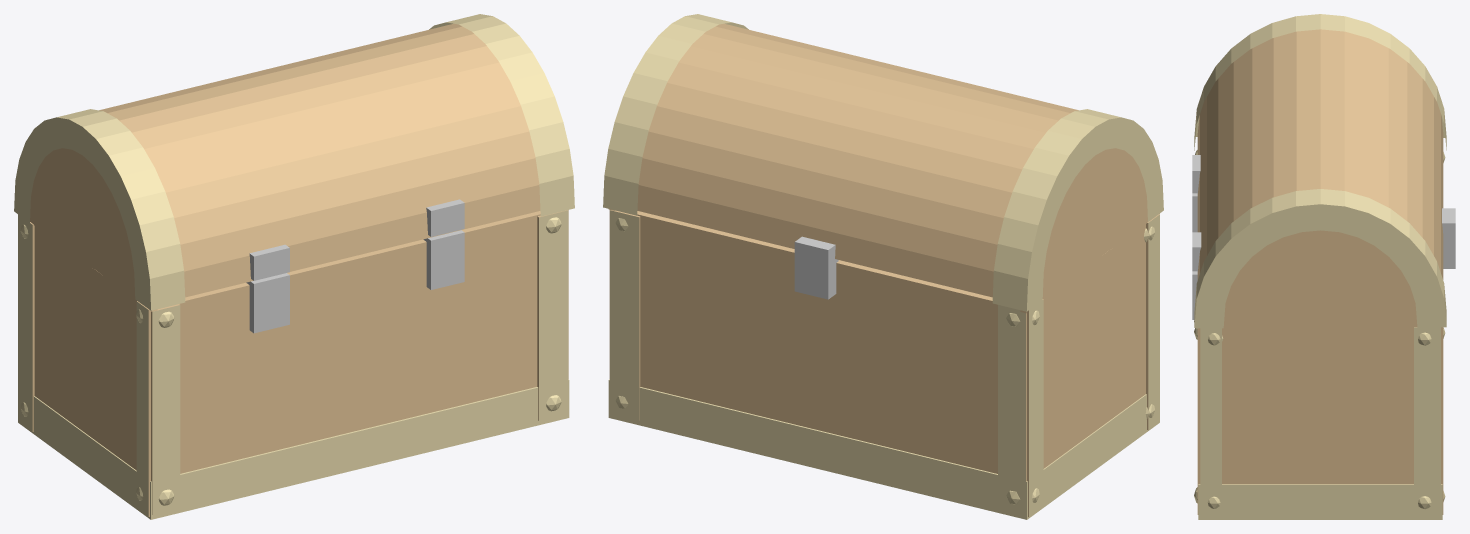
File: chest.fbx
3 views of the same model, side by side, from view 1: azimuth 30°, elevation 25°; view 2: azimuth 150°, elevation 25°; view 3: azimuth 270°, elevation 25° (orthographic). The views are drawn at different scales.
Visible parts, largest first — view 1: Cylinder, Cube.004, Cylinder.001, Cube, Cube.001, Cube.016, Cube.015, Cube.013, Cube.012, Cube.005, Cube.006, Cube.008 (+1 smaller); view 2: Cylinder, Cube.003, Cylinder.001, Cube, Cube.001, Cube.017, Cube.014, Cube.013, Cube.009, Cube.012; view 3: Cylinder, Cube.002, Cylinder.001, Cube, Cube.010, Cube.011, Cube.009, Icosphere.001, Icosphere, Cube.008, Cube.007.
Boxes of the visible parts, <box> form: Cylinder: <box>30,23,540,311</box>; Cube.004: <box>137,210,568,516</box>; Cylinder.001: <box>14,14,574,310</box>; Cube: <box>18,379,569,519</box>; Cube.001: <box>34,226,179,514</box>; Cube.016: <box>539,210,568,420</box>; Cube.015: <box>152,305,180,514</box>; Cube.013: <box>18,214,32,431</box>; Cube.012: <box>136,301,148,516</box>; Cube.005: <box>246,273,289,333</box>; Cube.006: <box>423,230,464,289</box>; Cube.008: <box>426,199,464,236</box>; Cylinder: <box>608,23,1159,313</box>; Cube.003: <box>609,210,1043,516</box>; Cylinder.001: <box>603,14,1163,311</box>; Cube: <box>608,379,1159,519</box>; Cube.001: <box>1026,224,1145,481</box>; Cube.017: <box>610,210,639,420</box>; Cube.014: <box>998,305,1025,514</box>; Cube.013: <box>1029,299,1043,516</box>; Cube.009: <box>794,236,838,299</box>; Cube.012: <box>1148,214,1159,429</box>; Cylinder: <box>1197,29,1443,328</box>; Cube.002: <box>1197,328,1443,514</box>; Cylinder.001: <box>1194,14,1446,328</box>; Cube: <box>1198,484,1442,519</box>; Cube.010: <box>1414,327,1440,517</box>; Cube.011: <box>1200,328,1221,517</box>; Cube.009: <box>1442,208,1455,268</box>; Icosphere.001: <box>1194,150,1445,345</box>; Icosphere: <box>1194,321,1445,509</box>; Cube.008: <box>1192,232,1201,271</box>; Cube.007: <box>1192,155,1200,193</box>.
Size of the model in its own units: 348 by 270 by 203.
